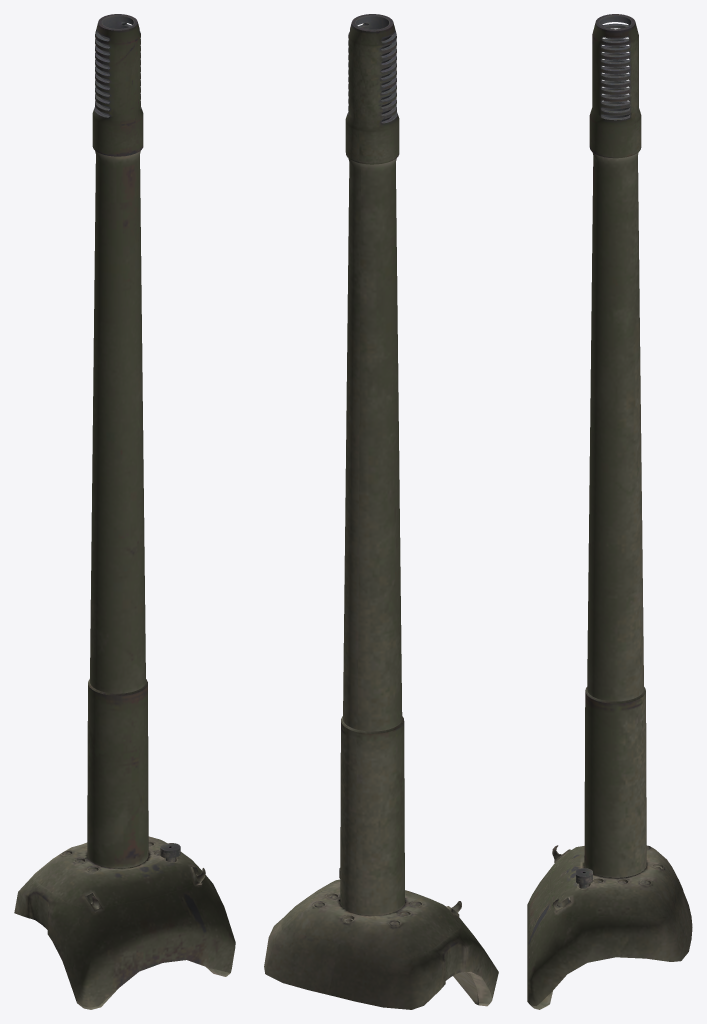
File: Gun_02.glb
3 views of the same model, side by side, from view 1: azimuth 30°, elevation 25°; view 2: azimuth 150°, elevation 25°; view 3: azimuth 270°, elevation 25° (orthographic). The views are drawn at different scales.
Visible parts, largest first — view 1: set_0_group_0; view 2: set_0_group_0; view 3: set_0_group_0.
Part boxes in pixels (x1,y1,x2,y2): set_0_group_0: (14, 14, 235, 1009); set_0_group_0: (264, 14, 498, 1009); set_0_group_0: (527, 14, 692, 1009).
Size of the model in its own units: 0.9574 by 5.42 by 0.8499.
Materials: 1 (1 with a texture image).
